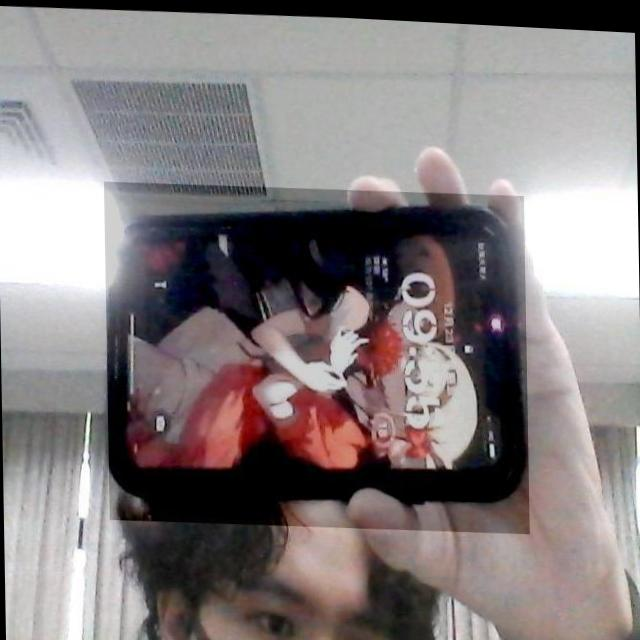Smartphone: (104, 188, 536, 511)
